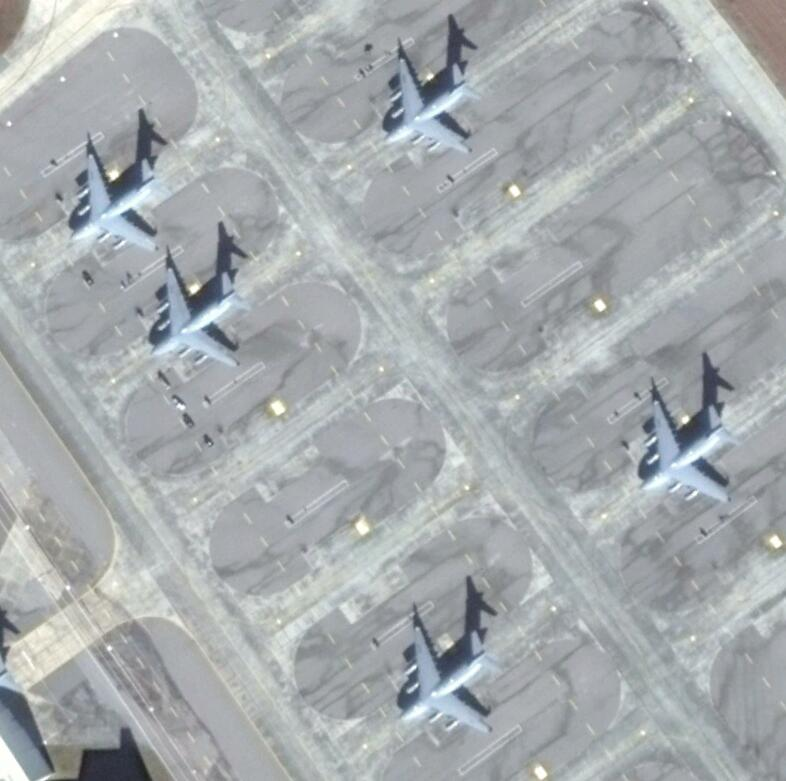A3: (394, 625, 503, 736), (641, 396, 741, 509), (150, 265, 253, 371), (382, 54, 482, 157), (67, 154, 168, 254)
